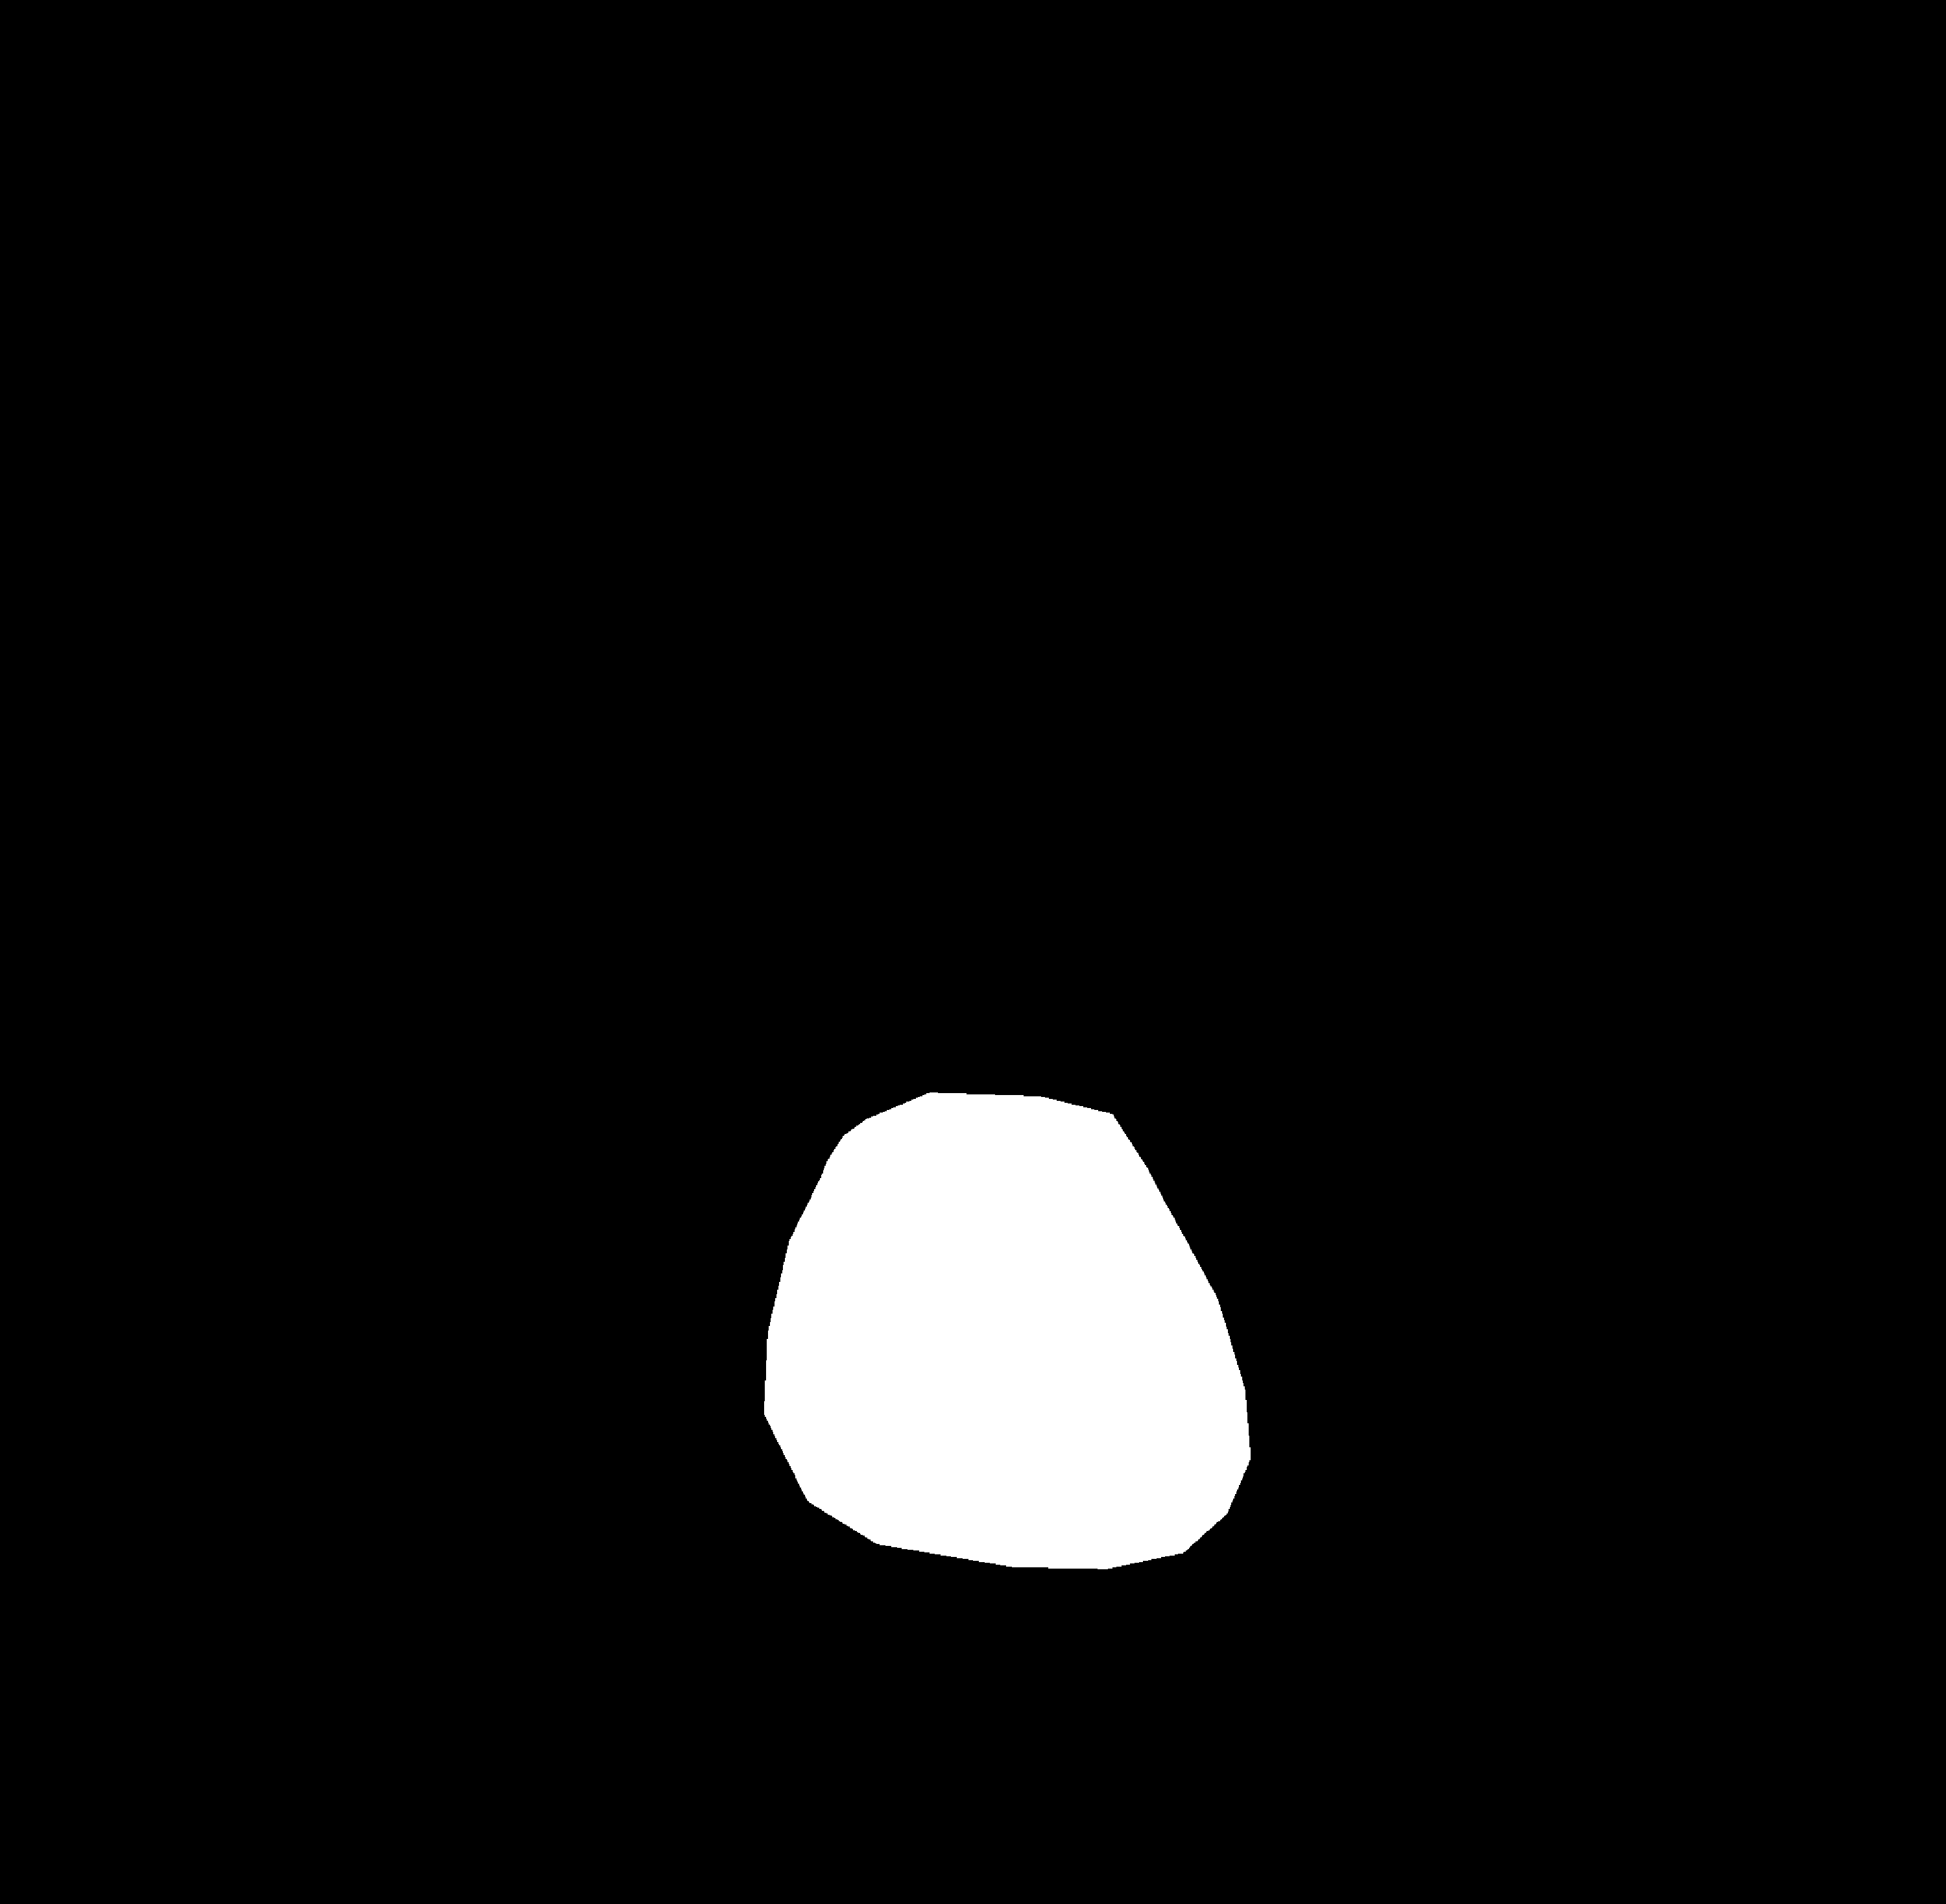heart: (767, 1201, 1247, 1567)
left_lung: (303, 431, 895, 1765)
right_lung: (1027, 438, 1573, 1777)
